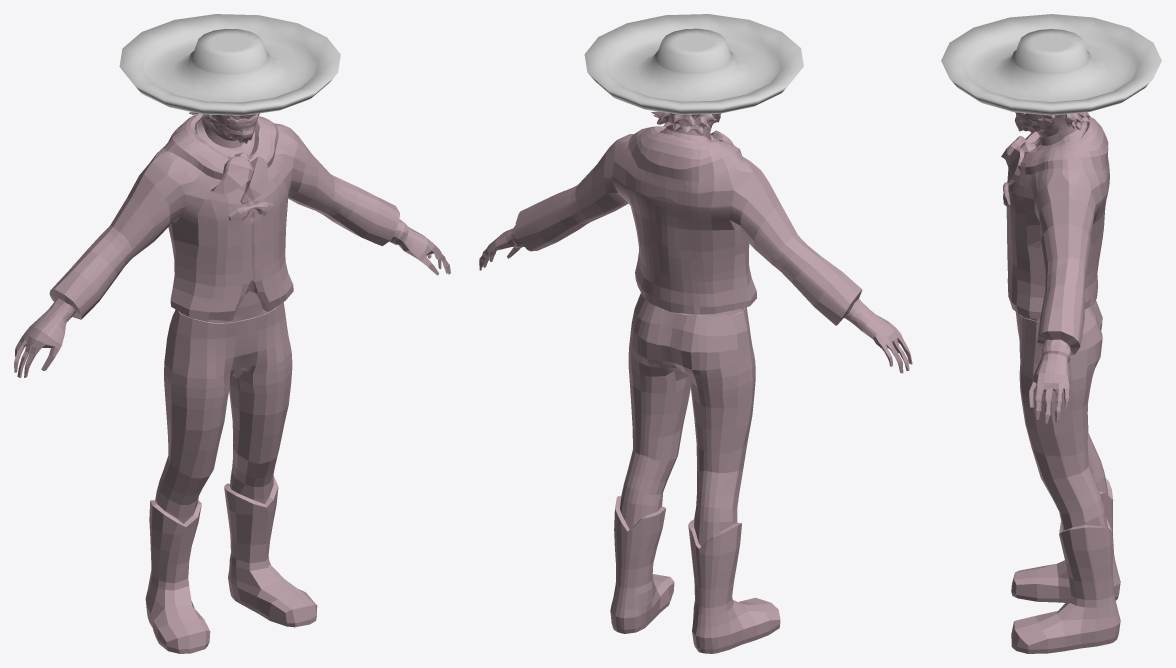
Rendered from TEMP_Model_Lucero.fbx.
3 renders of one model, left to right at view 1: azimuth 30°, elevation 25°; view 2: azimuth 150°, elevation 25°; view 3: azimuth 270°, elevation 25°, orthographic.
Parts seen in each view (by area): view 1: Body, Sombrero; view 2: Body, Sombrero; view 3: Body, Sombrero.
Boxes of the visible parts, x1=… form: Body: x1=14, y1=112, x2=450, y2=653; Sombrero: x1=119, y1=14, x2=340, y2=115; Body: x1=479, y1=111, x2=912, y2=653; Sombrero: x1=584, y1=14, x2=803, y2=114; Body: x1=1001, y1=112, x2=1120, y2=653; Sombrero: x1=941, y1=14, x2=1161, y2=115.
Bounding box in the file's own units: 143 × 185 × 64.17.
